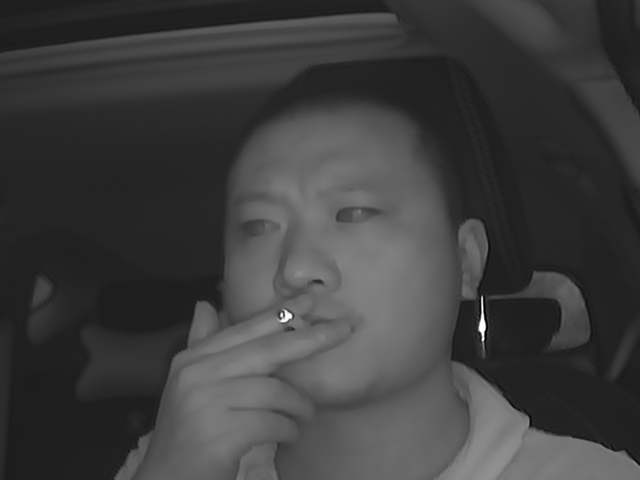hand: (208, 291, 356, 451)
